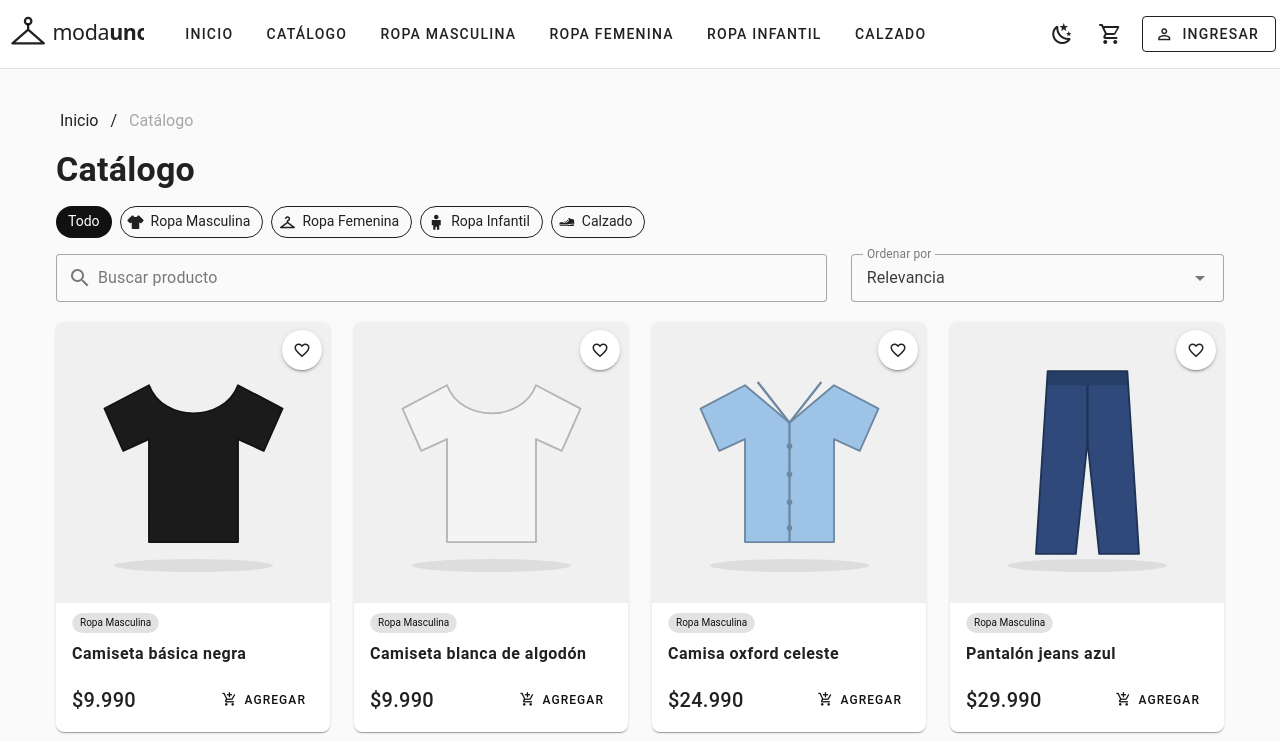
Test: Compra simulada › cambia la cantidad y elimina el producto
Click the button with test id "add-to-cart-btn" below "Camiseta básica negra" at point(264, 700), box [214,686,314,714]
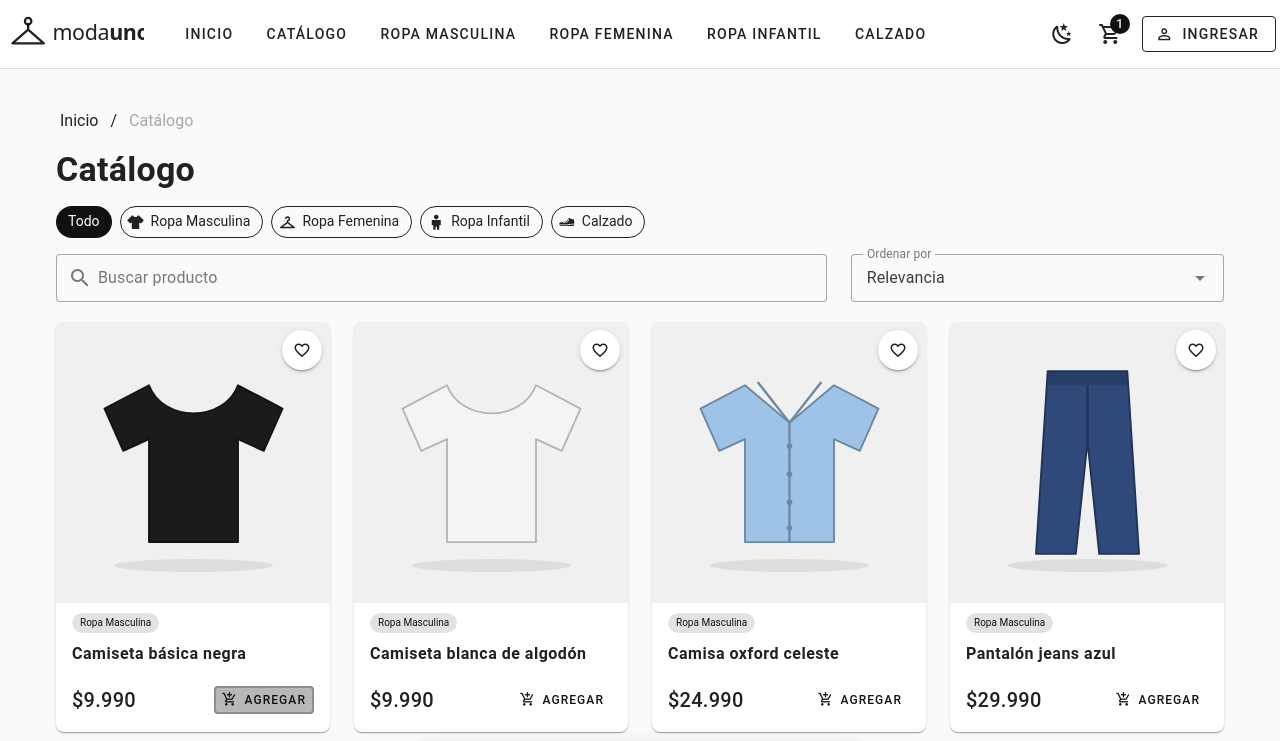
Click the button with test id "cart-btn" at point(1110, 34), box [1086,10,1134,58]
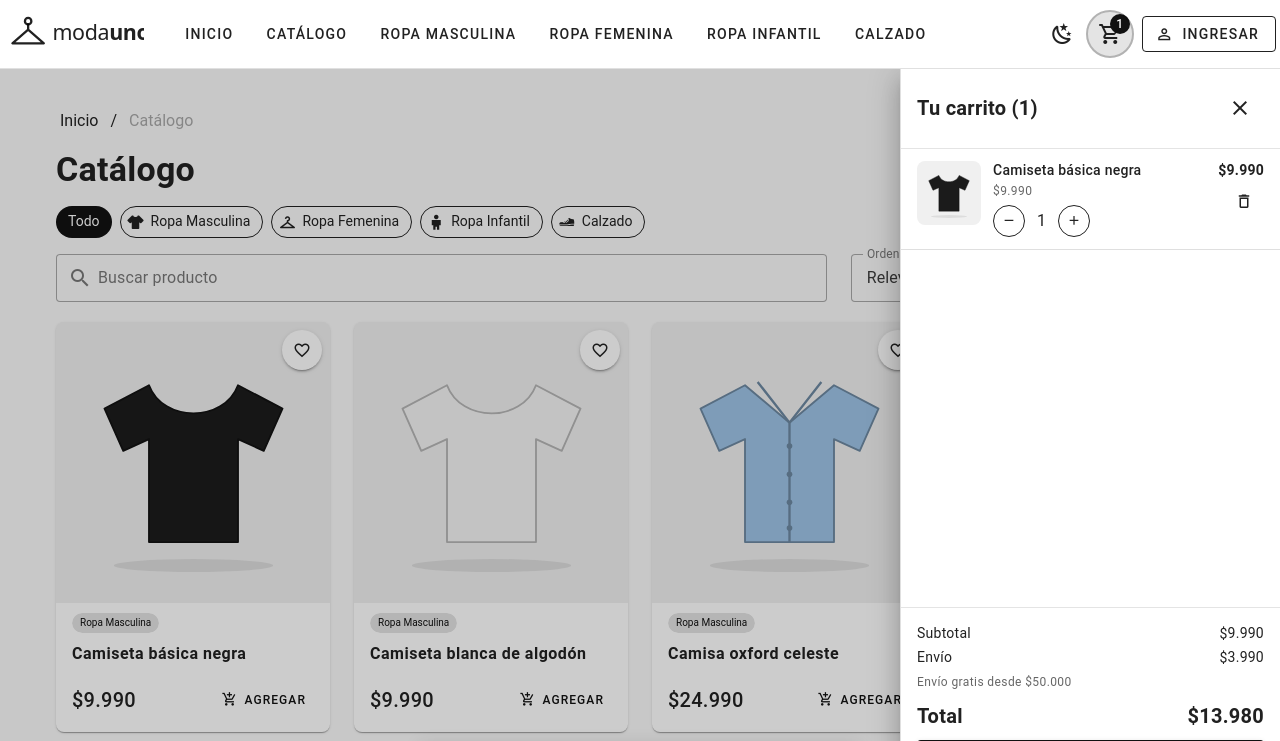
Click the button named "Agregar una unidad" at point(1074, 221), box [1058,205,1090,237]
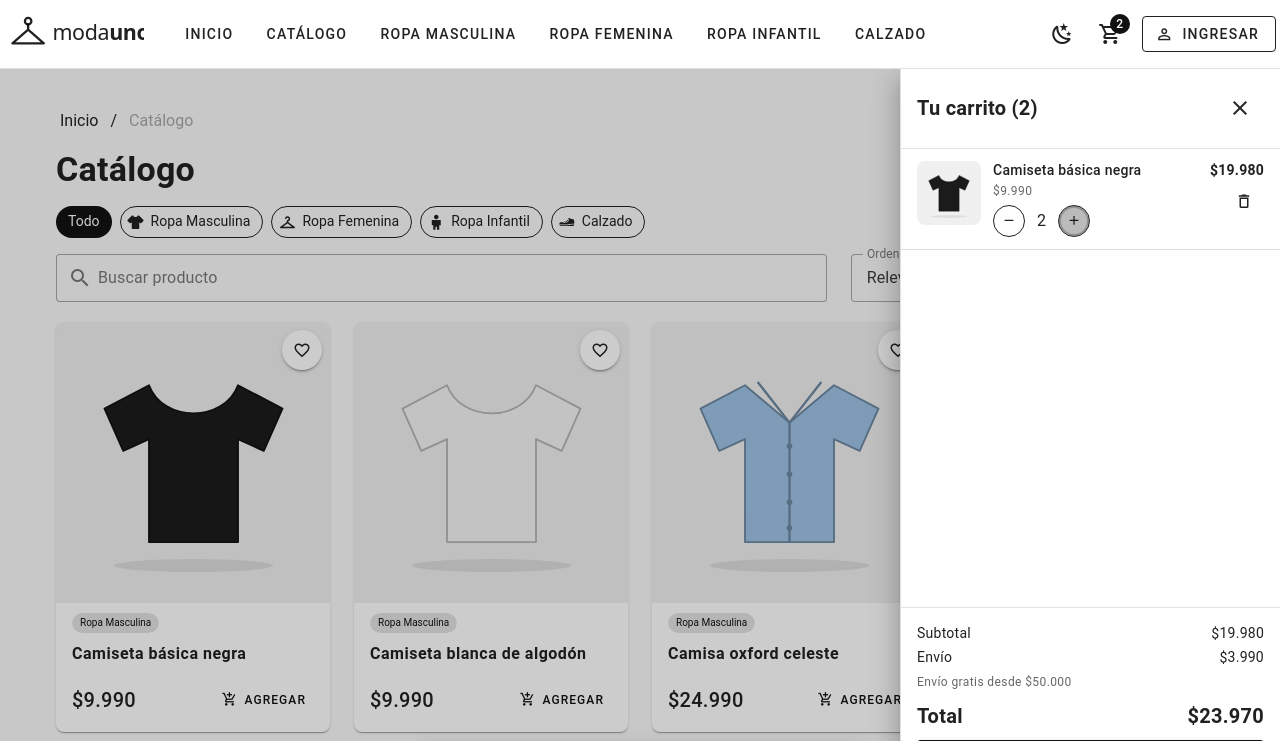
Expected: the text with test id "cart-qty" reads "2", [1037,209,1046,233]
Click the button named "Eliminar producto" at point(1244, 201), box [1224,181,1264,221]
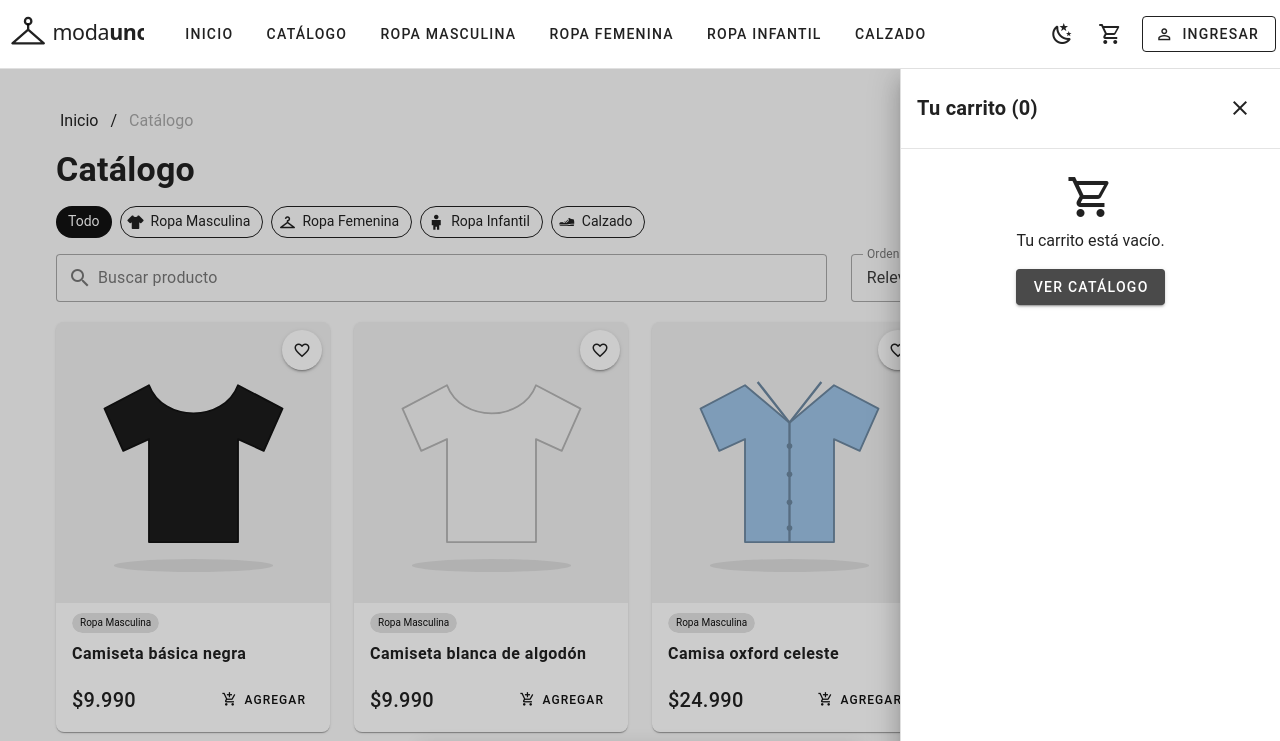
Expected: the text "Tu carrito está vacío" is shown, [1016,231,1164,250]
